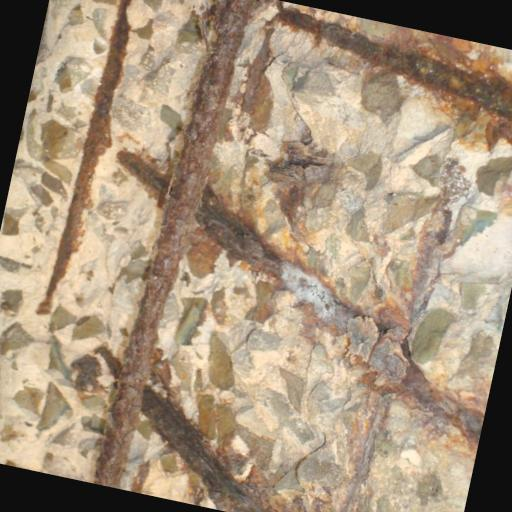spalling: (25, 0, 512, 512)
